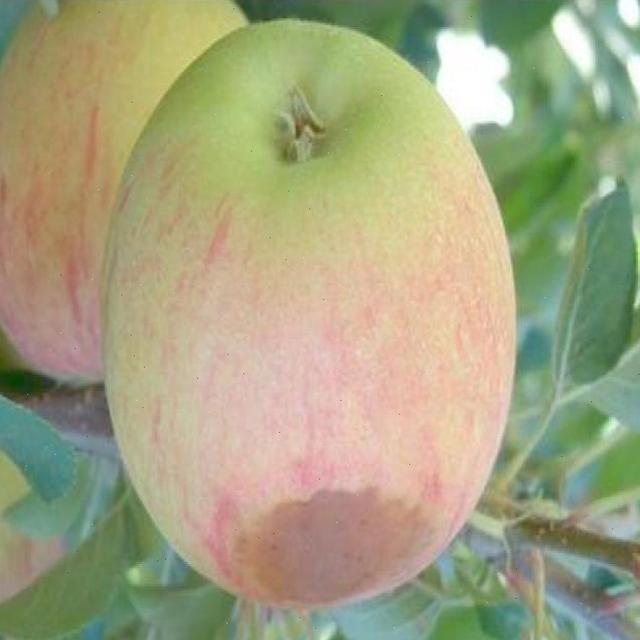Sunscald Fruit: (143, 293, 299, 416)
